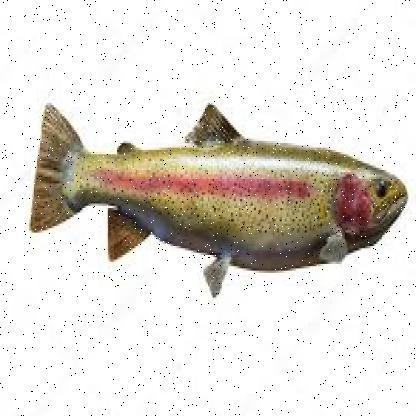fish: (26, 101, 406, 296)
